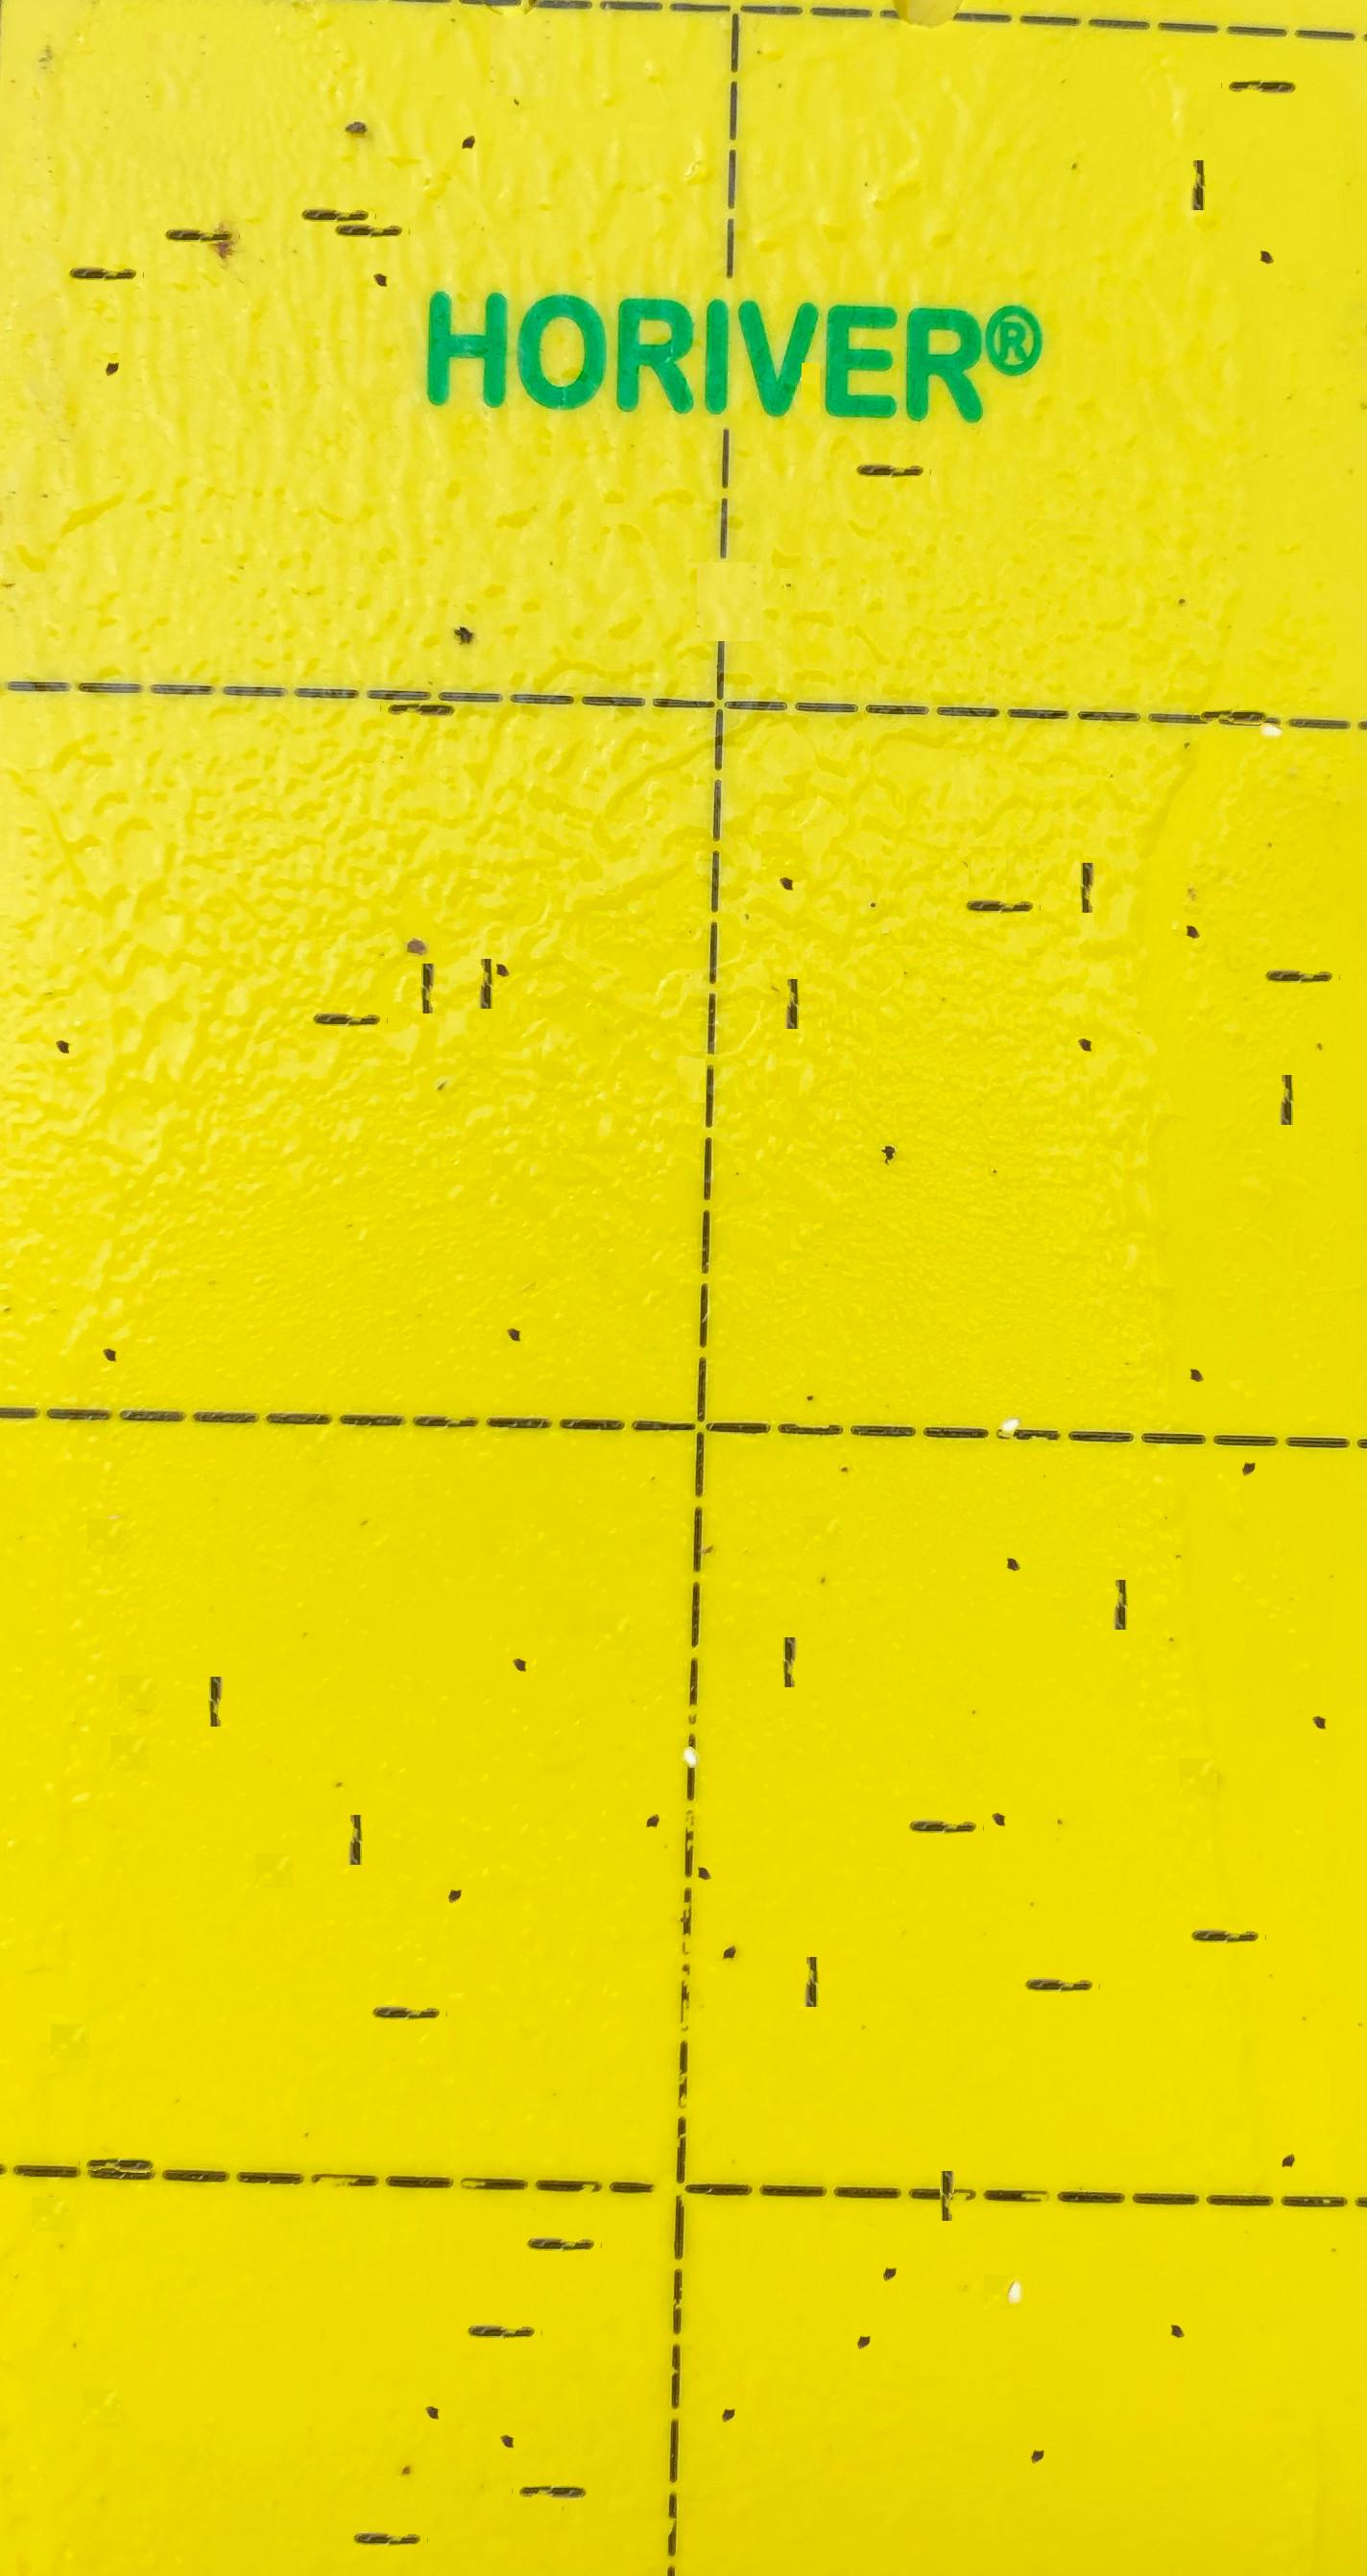white_fly: (989, 1353, 1031, 1400), (670, 1685, 712, 1733), (1249, 673, 1292, 710), (992, 2237, 1035, 2274)
